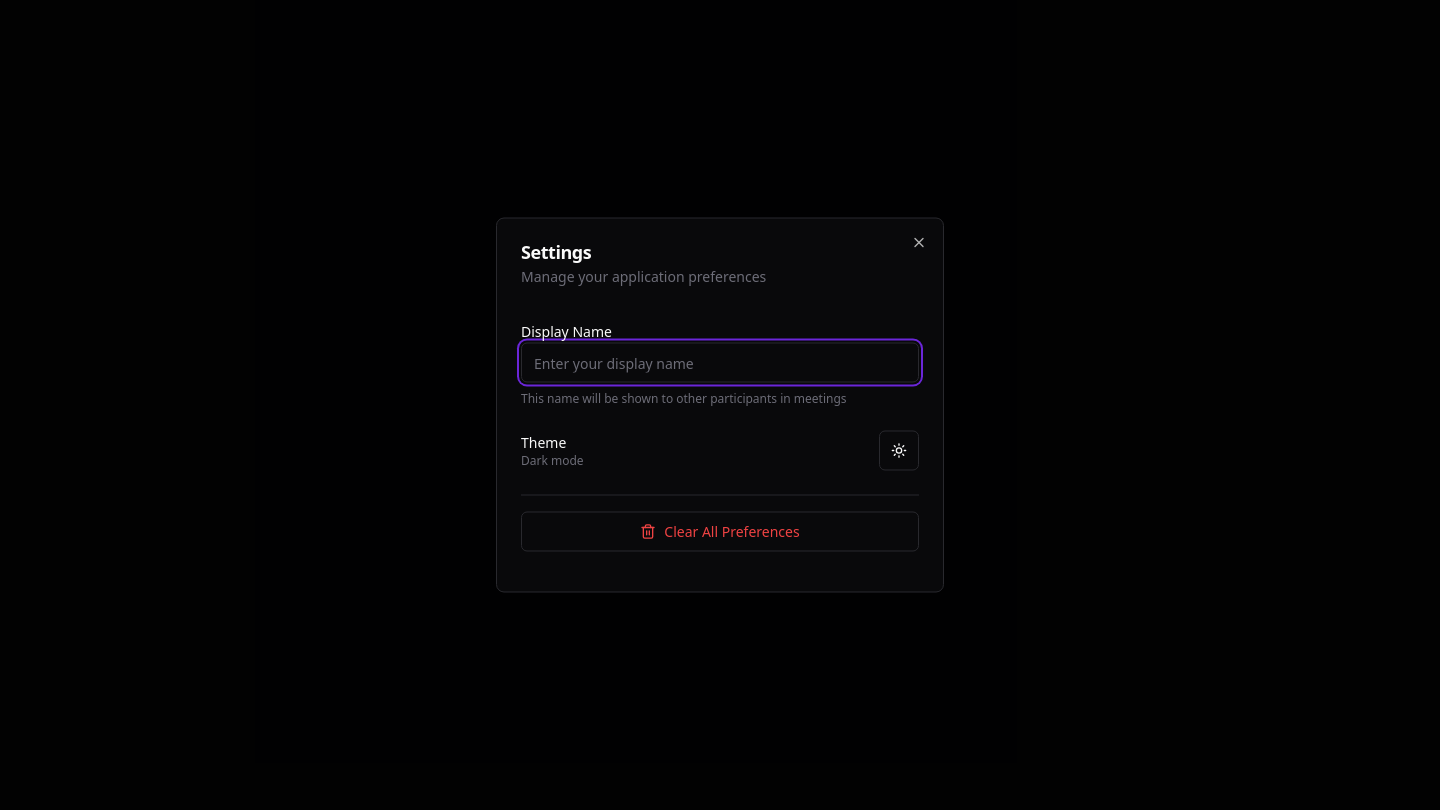
Test: SettingsModal › clear preferences button (AC-2.14.5, AC-2.14.6) › hides confirmation when cancel is clicked
What coordinates should you click on to do the following:
click the button "Clear All Preferences"
I would click on:
 (720, 532)
Its box is [521, 512, 919, 552].
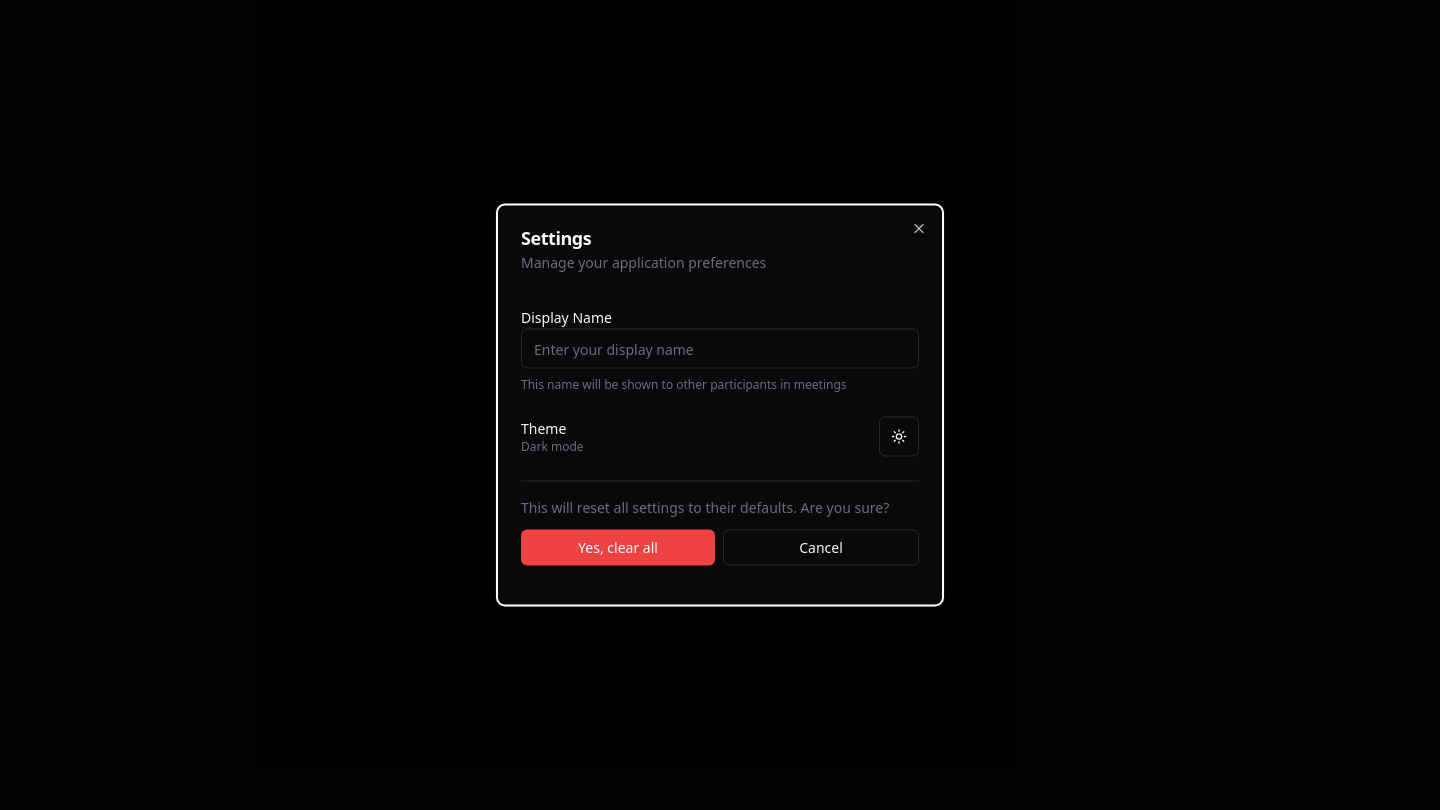
What coordinates should you click on to do the following:
click the button "Cancel"
I would click on:
 (821, 548)
Its box is [723, 530, 919, 566].
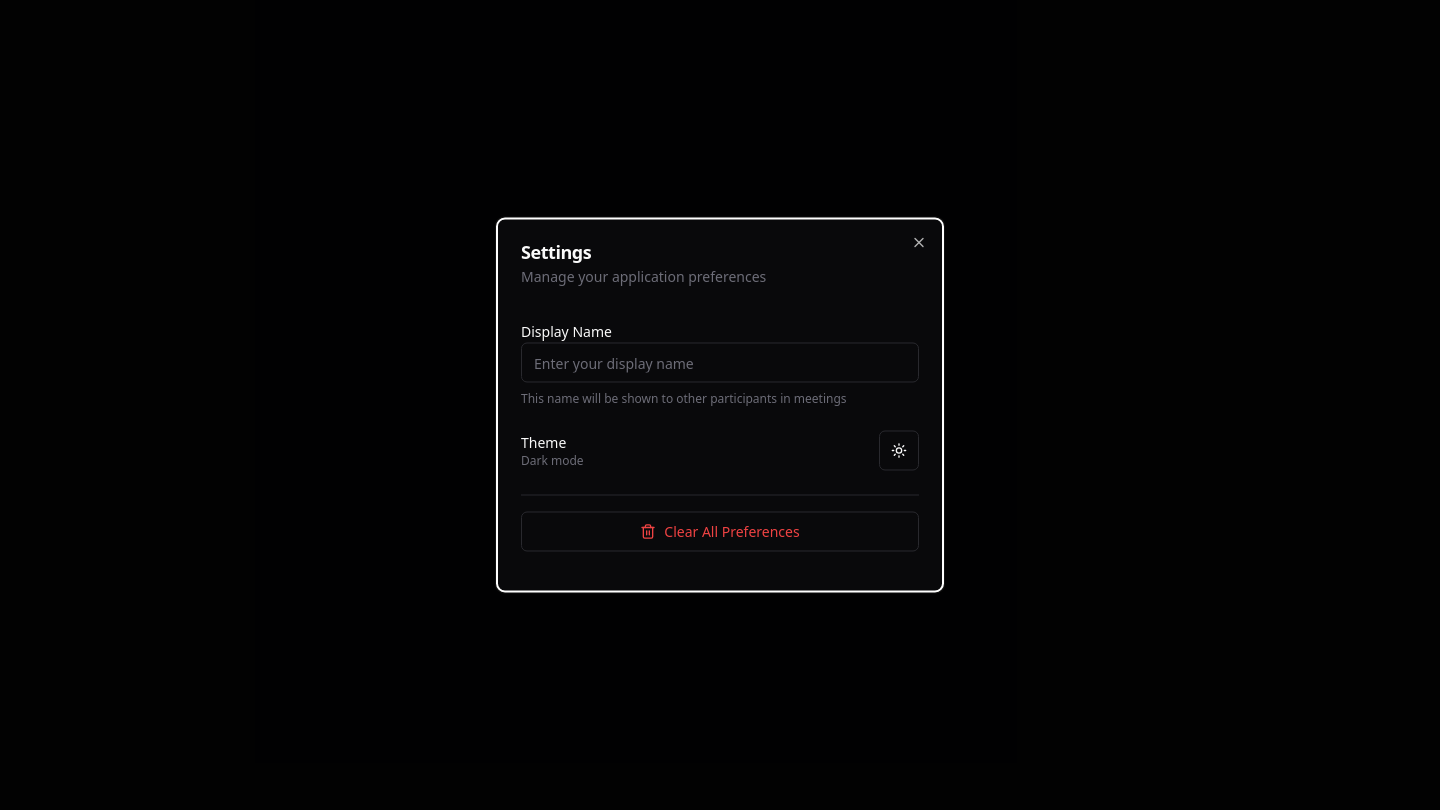
Result: the text "Are you sure" is gone
